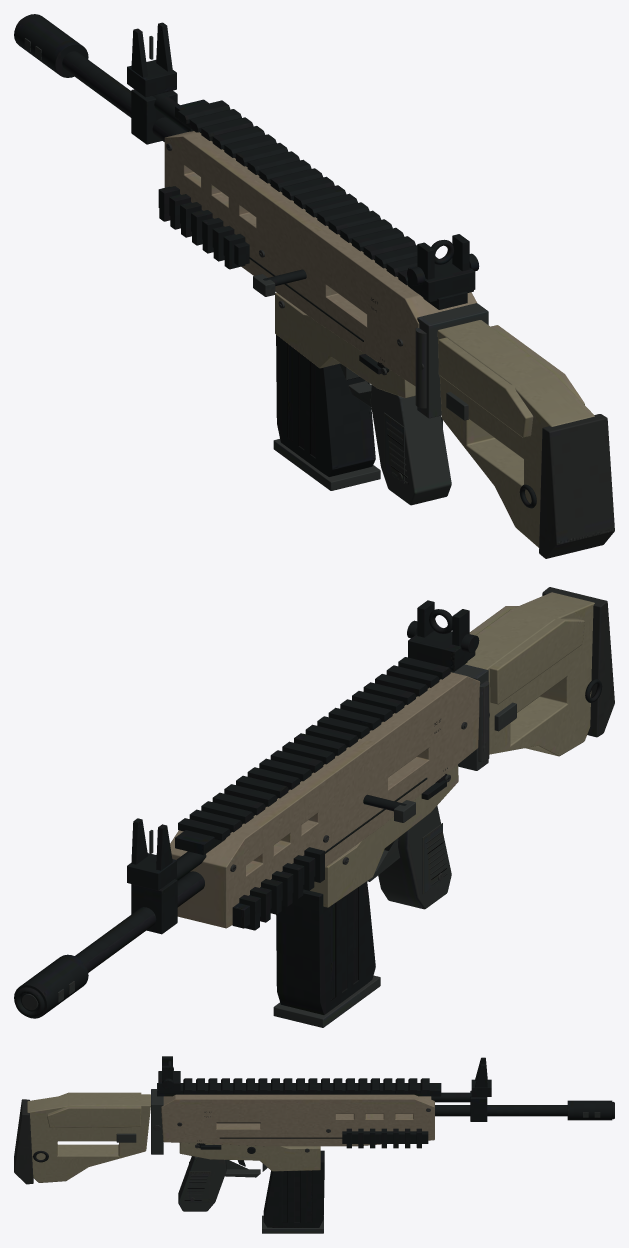
Rendered from scar.glb.
3 views of the same model, one above another, from view 1: azimuth 30°, elevation 25°; view 2: azimuth 150°, elevation 25°; view 3: azimuth 270°, elevation 25° (orthographic). The views are drawn at different scales.
Parts seen in each view (by area): view 1: scar; view 2: scar; view 3: scar.
Part boxes in pixels (x1=…): scar: x1=14, y1=14, x2=614, y2=558; scar: x1=14, y1=587, x2=614, y2=1027; scar: x1=14, y1=1056, x2=614, y2=1233.
Size of the model in its own units: 0.1445 by 0.3444 by 1.13.
Materials: 1 (1 with a texture image).
